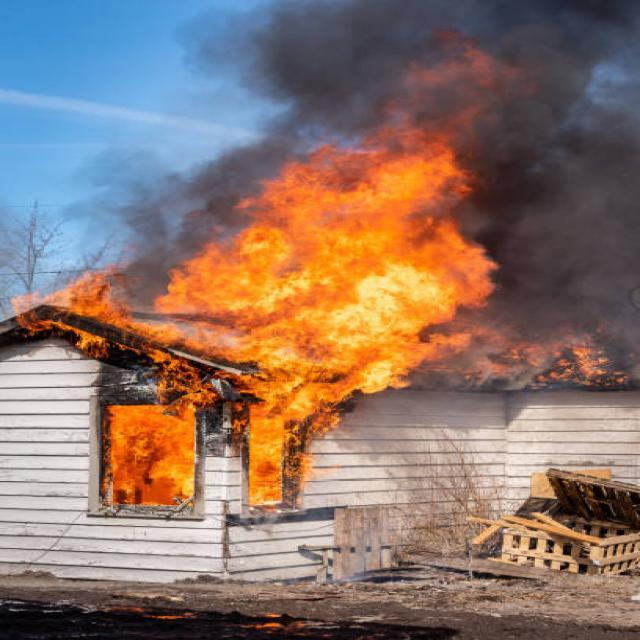Fire: (190, 144, 502, 424), (51, 270, 260, 522)
Smoke: (232, 0, 640, 228), (513, 139, 640, 405)
